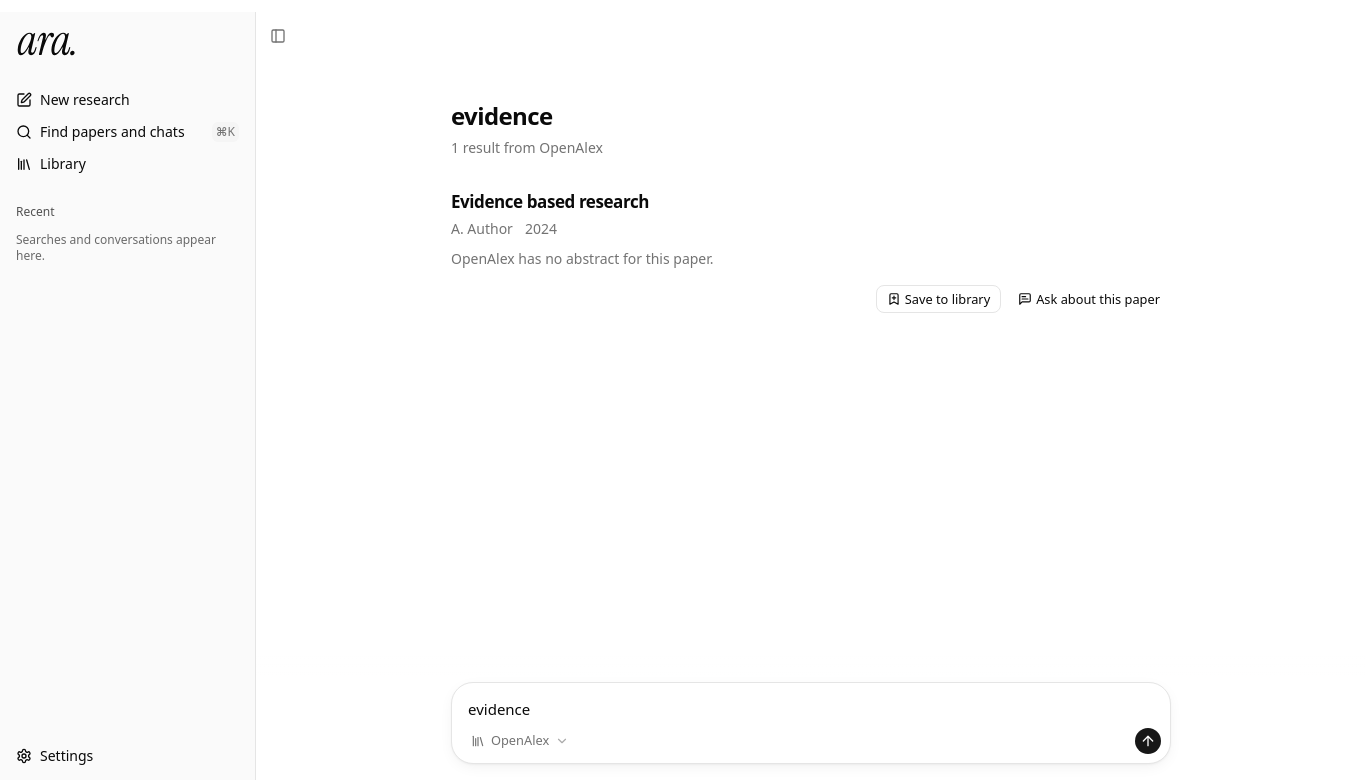
Test: Given a save, Then the row shows In library without querying the provider again
The width and height of the screenshot is (1366, 780).
Click the button "Save to library".
click(938, 299)  # box [876, 285, 1001, 313]
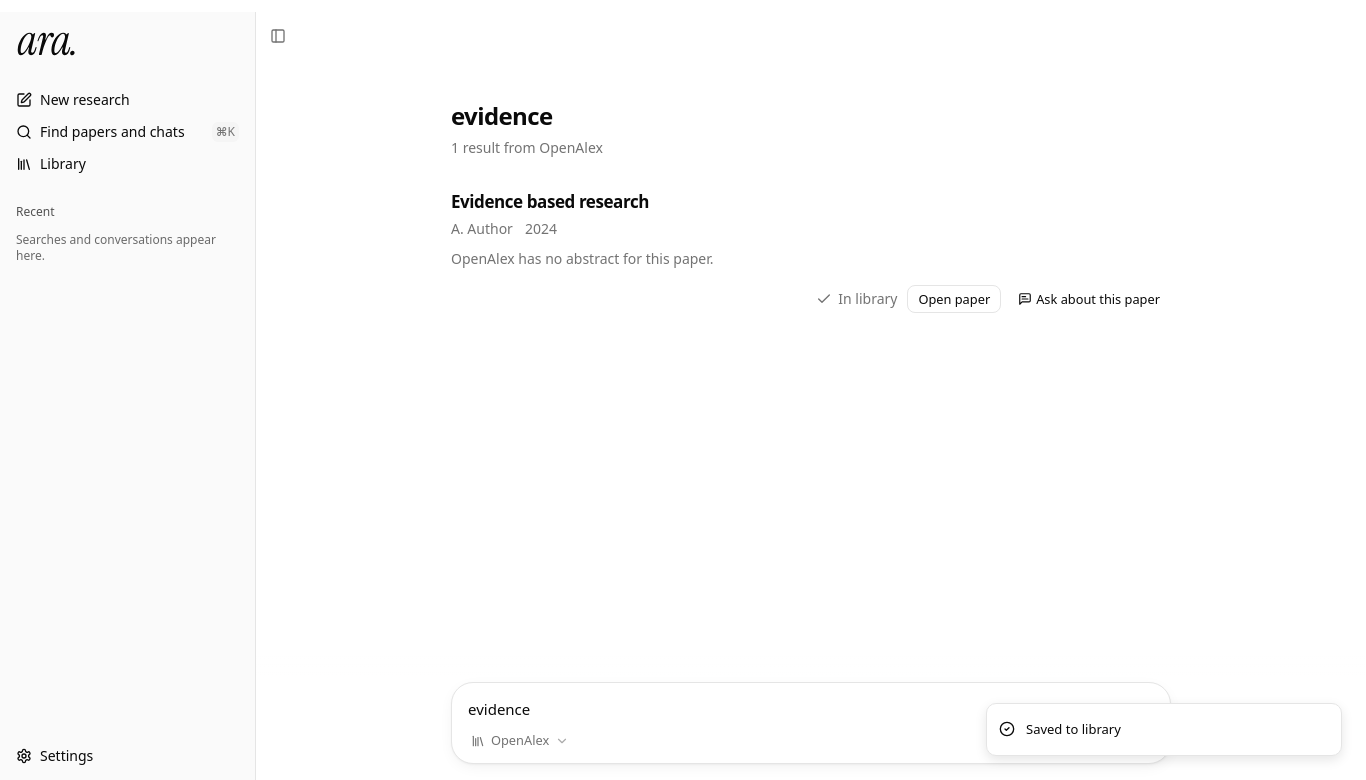
Check: the text "In library" is shown, box [812, 289, 902, 309]
